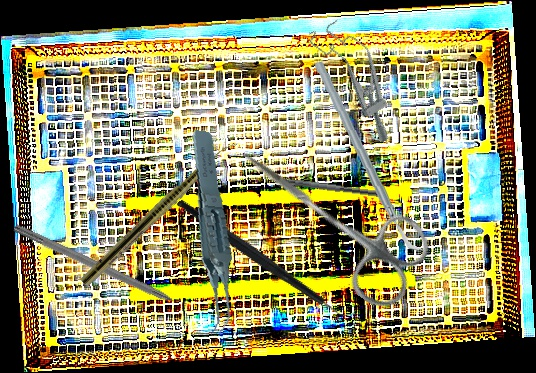Chopper: (174, 152, 362, 366), (313, 57, 425, 259), (259, 168, 388, 198)
Handpiece: (79, 133, 240, 290)
Hook Surgical: (11, 222, 197, 318)
Iris Scissors: (213, 118, 443, 317)
Speculum: (304, 10, 414, 149)
Tissue Forceps: (164, 129, 255, 338)
